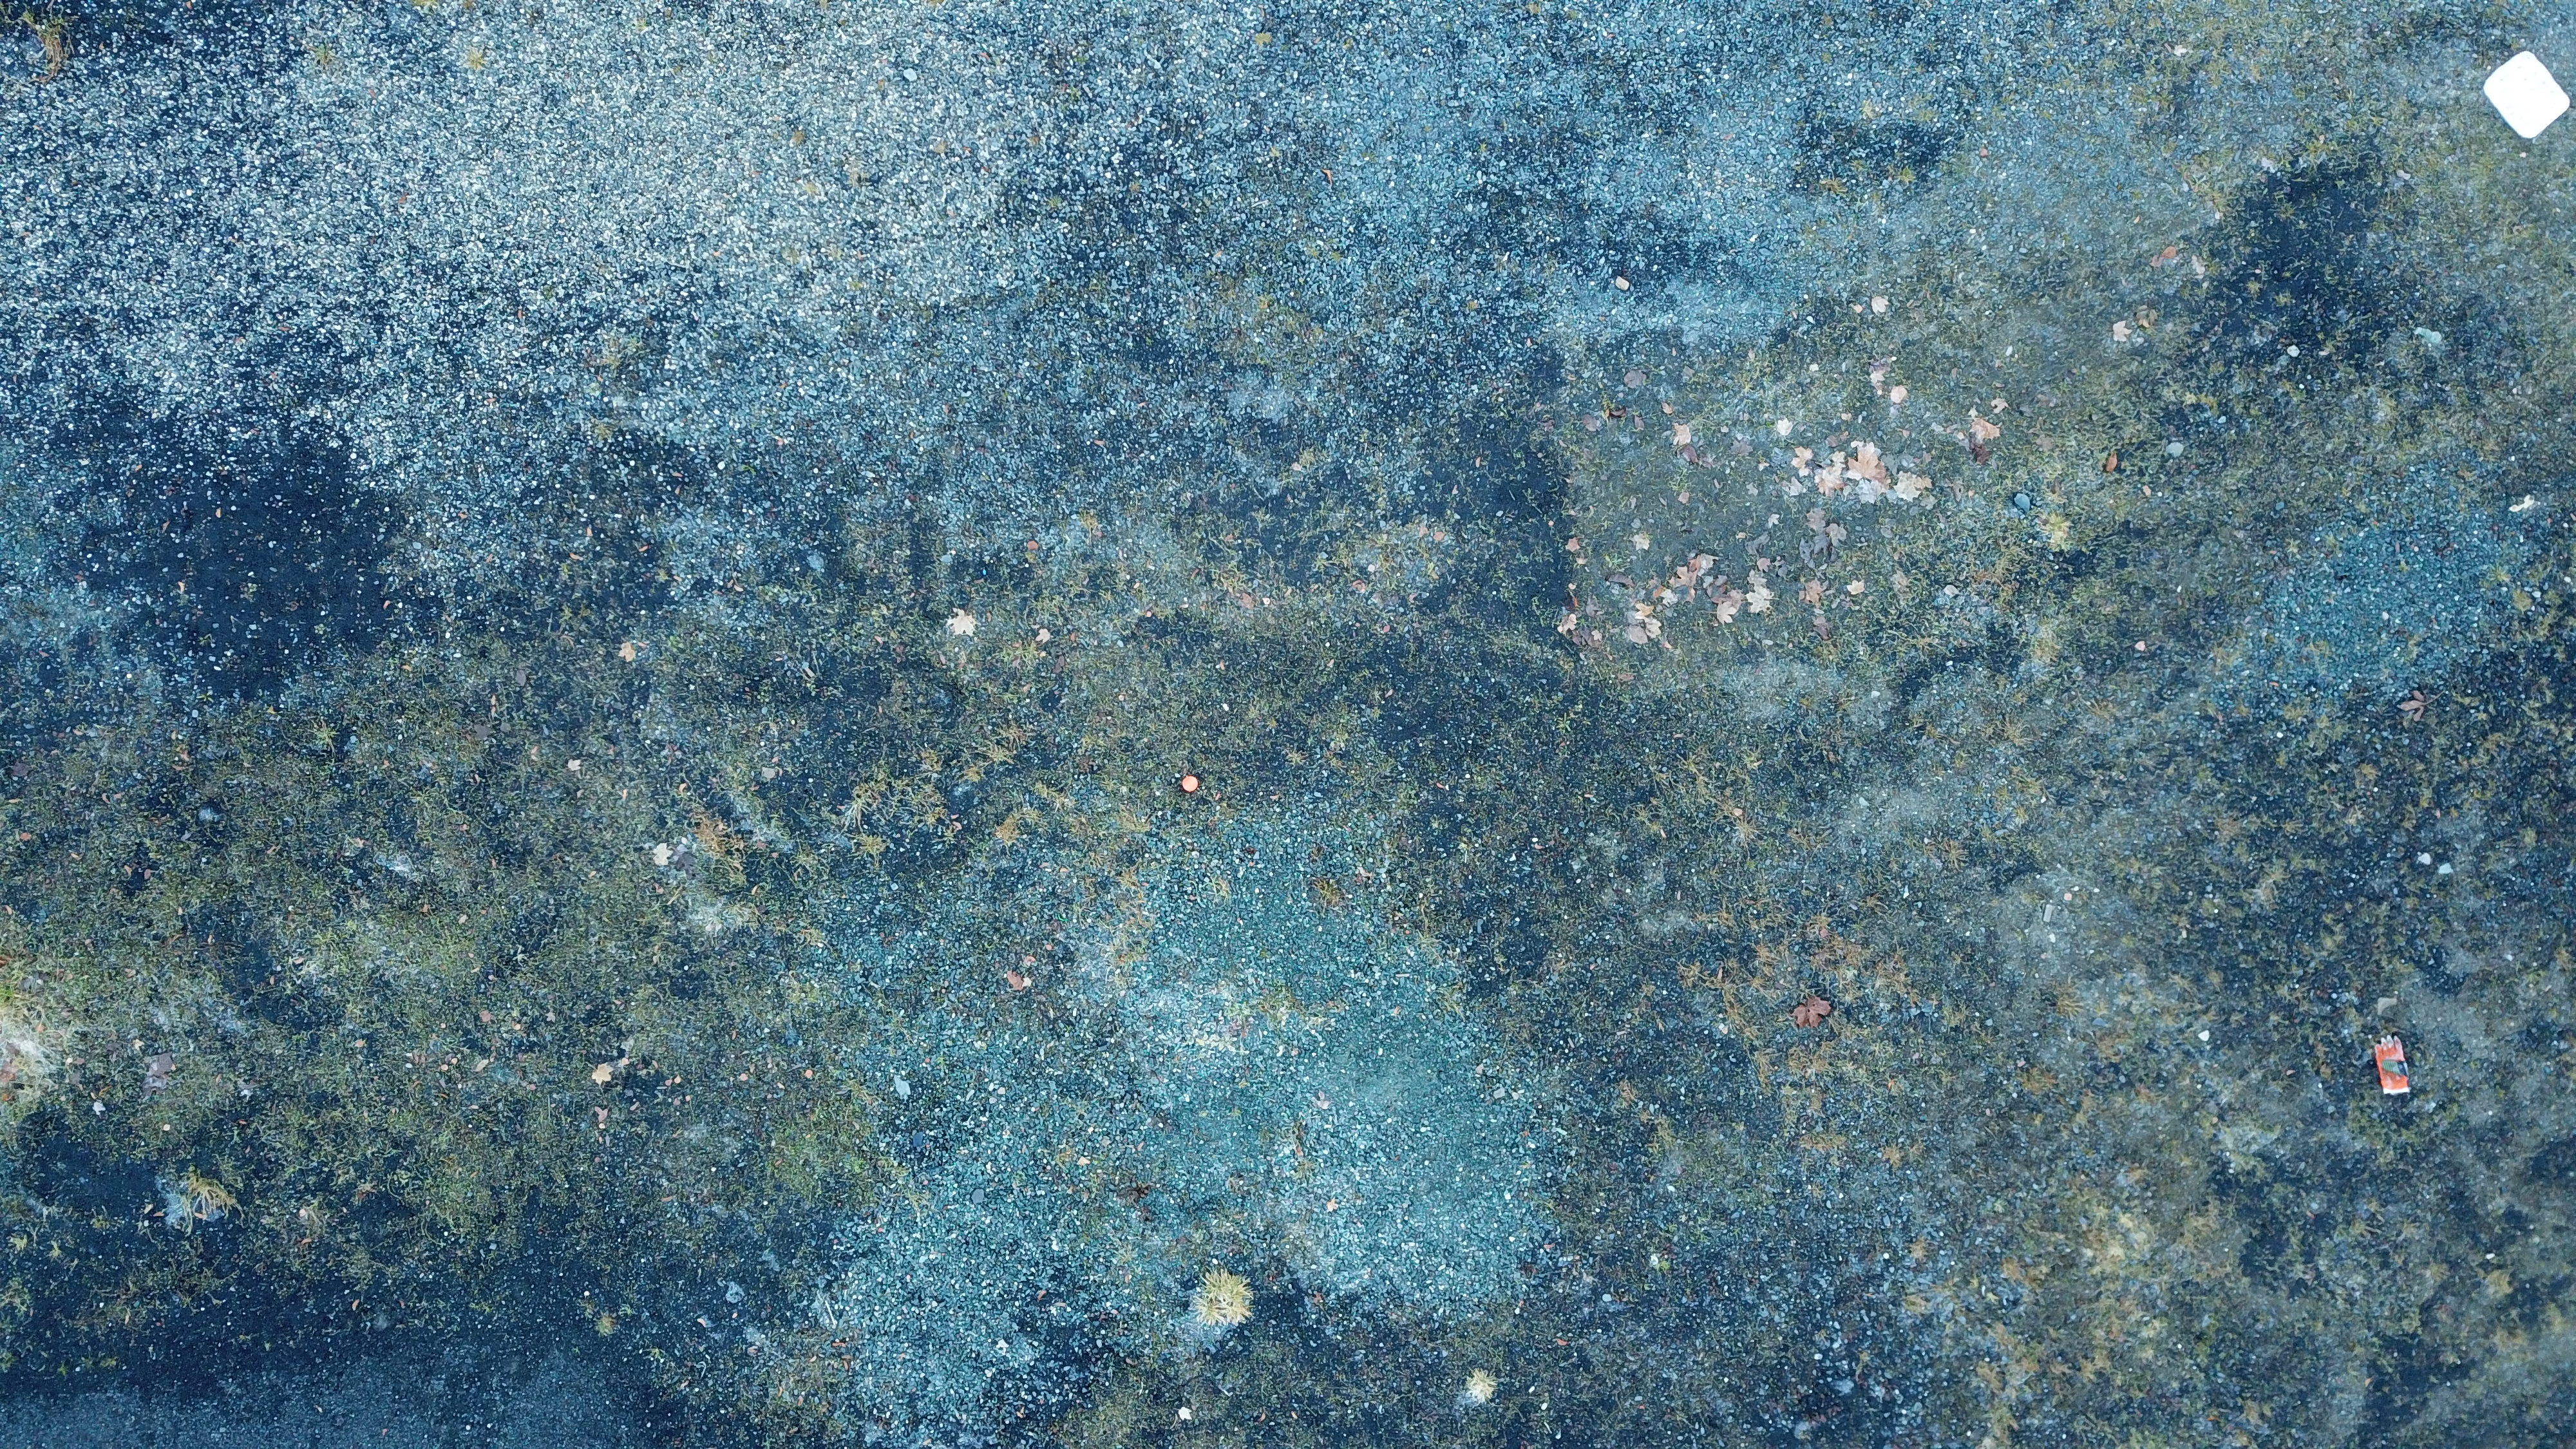Other: (2477, 50, 2571, 140), (2371, 1030, 2415, 1097)
Plastic: (1178, 773, 1203, 794)
